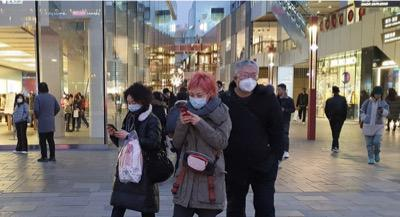with_mask: (236, 70, 258, 92), (188, 90, 208, 109), (126, 99, 141, 112), (16, 96, 24, 102), (302, 89, 306, 92)
without_mask: (276, 87, 284, 94), (163, 92, 171, 99), (374, 92, 382, 98)
